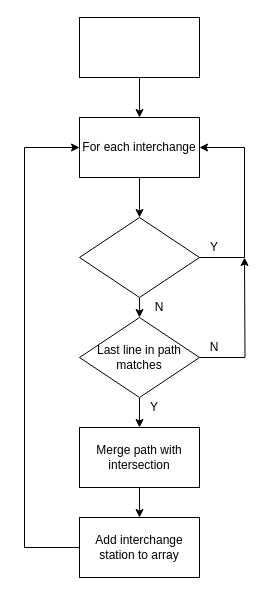
Some shapes in this 271 by 595 pixel diagram are drawn without their labels. Here are the shapes that lost their labels. From the top down, the box of each, then its label:
(78, 16, 200, 78): Read Interchange values
(78, 216, 200, 298): Already used?
